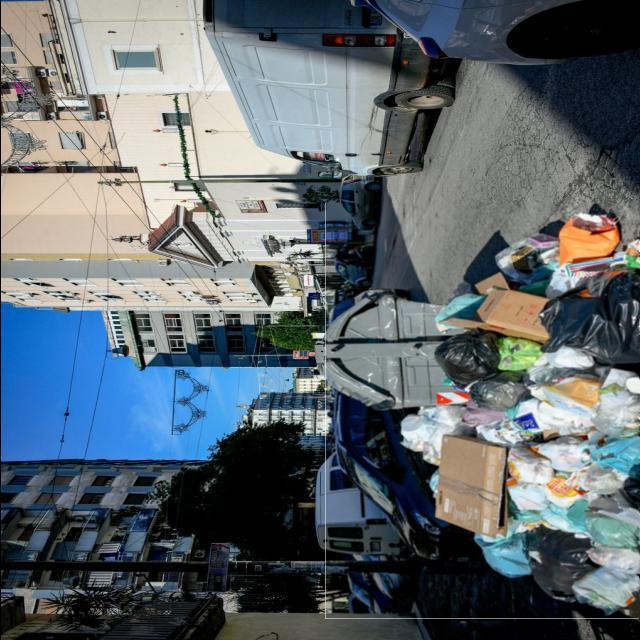Trashbag: (538, 274, 637, 364), (523, 527, 591, 608), (434, 325, 504, 389)
